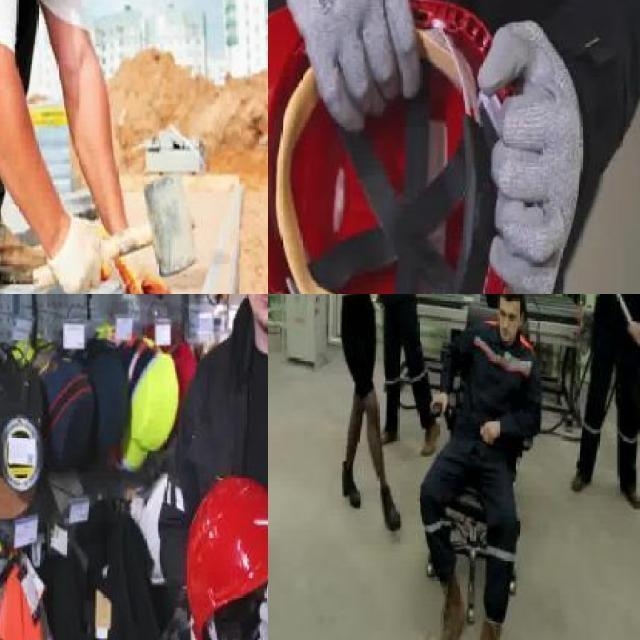apron: (477, 16, 584, 294), (268, 0, 429, 130), (45, 214, 105, 294), (115, 253, 175, 294)
